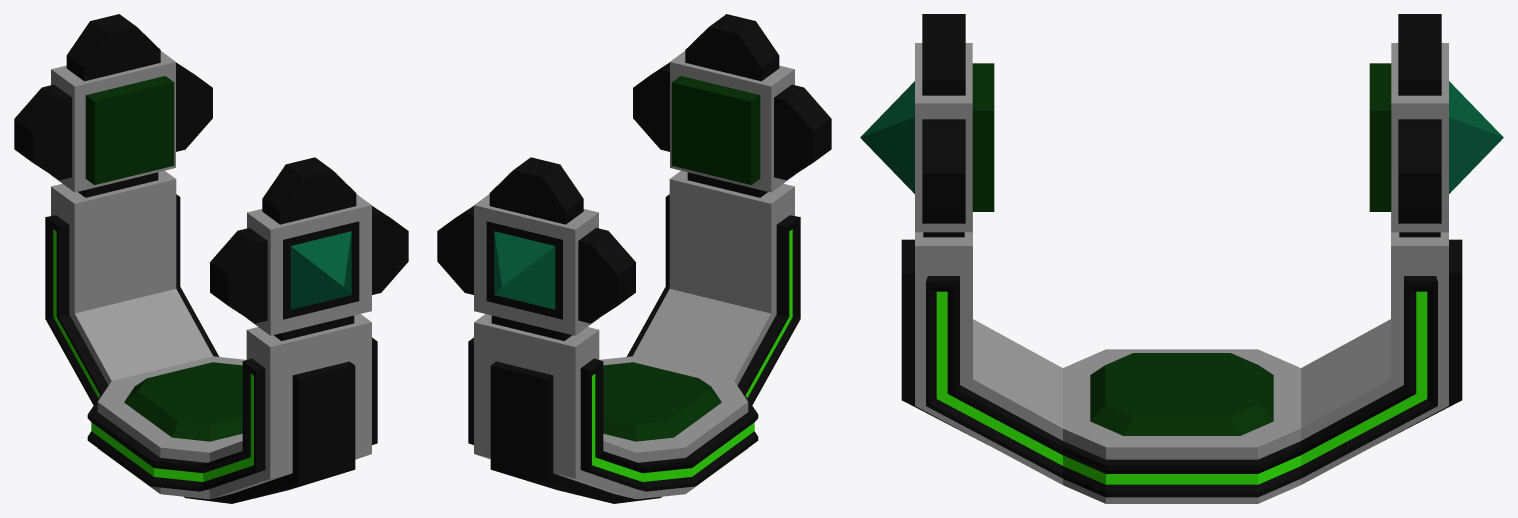
The model's file is SM_DefenseCannonBearing.FBX.
The picture shows the model from 3 angles, left to right: view 1: azimuth 30°, elevation 25°; view 2: azimuth 150°, elevation 25°; view 3: azimuth 270°, elevation 25°; orthographic projection. The views are drawn at different scales.
Visible parts, largest first — view 1: Box001; view 2: Box001; view 3: Box001.
Boxes of the visible parts, x1,y1,x2,y2 form: Box001: (14, 14, 408, 503); Box001: (437, 14, 831, 503); Box001: (860, 14, 1503, 503).
Size of the model in its own units: 1575 by 2971 by 3901.
